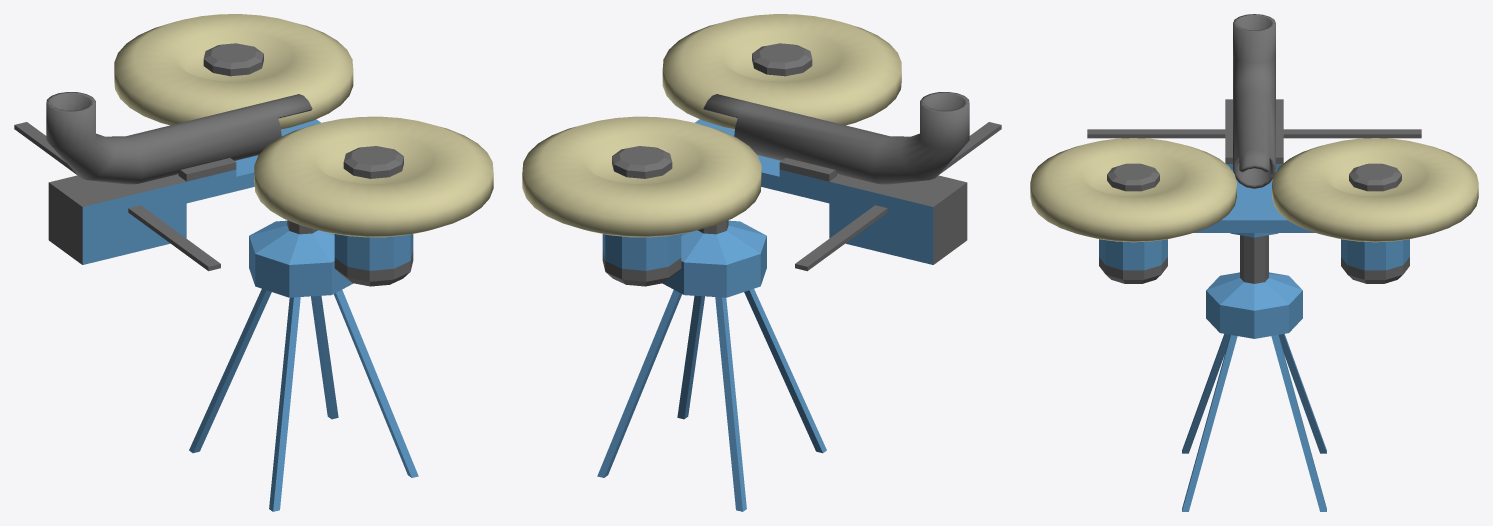
File: pitching machine.fbx
The picture shows the model from 3 angles, left to right: view 1: azimuth 30°, elevation 25°; view 2: azimuth 150°, elevation 25°; view 3: azimuth 270°, elevation 25°; orthographic projection. The views are drawn at different scales.
Visible parts, largest first — view 1: Cylinder.001; view 2: Cylinder.001; view 3: Cylinder.001.
Boxes of the visible parts, x1,y1,x2,y2 form: Cylinder.001: [14, 14, 493, 511]; Cylinder.001: [522, 14, 1001, 511]; Cylinder.001: [1030, 14, 1478, 511].
Size of the model in its own units: 1032 by 1151 by 1298.
